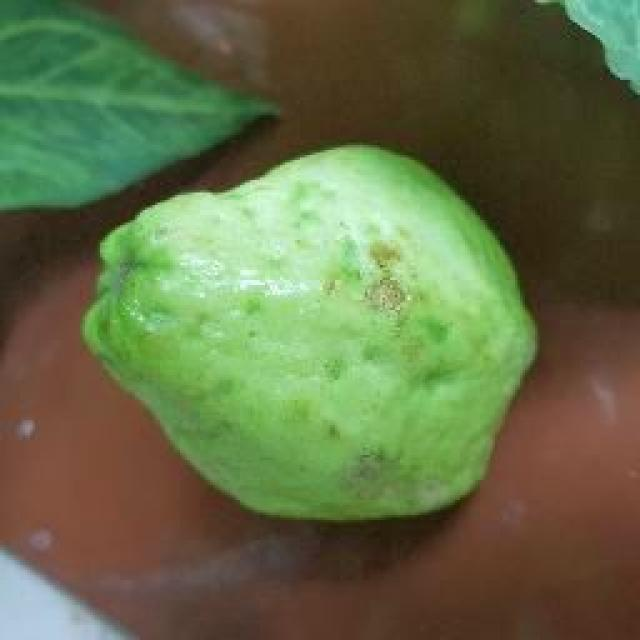Good_Guava: (80, 142, 540, 525)
